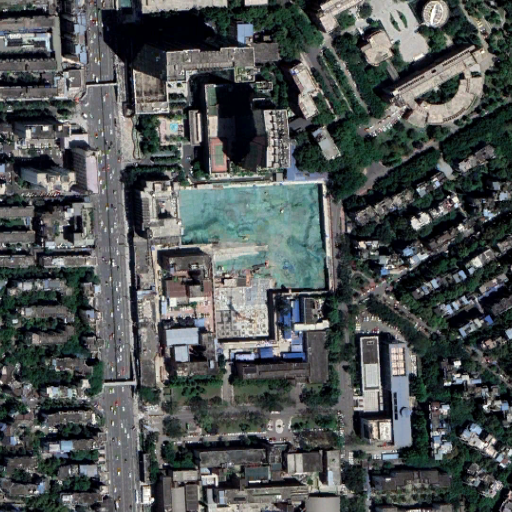cw: (175, 182, 329, 292)
